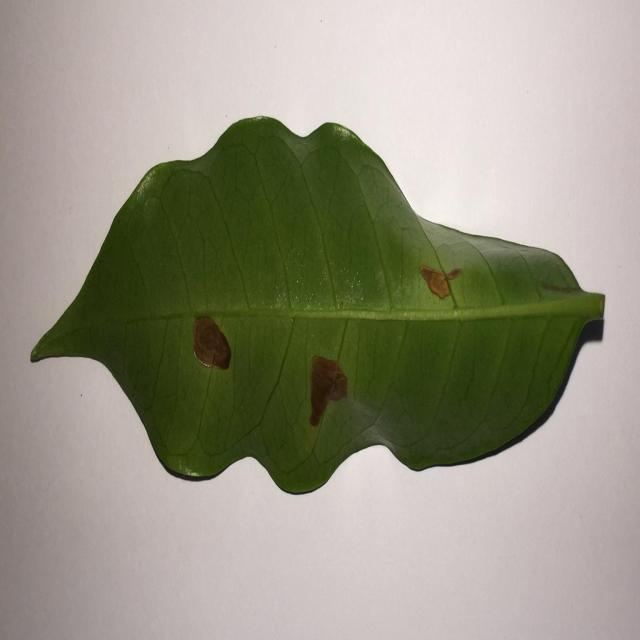Plaga-Minador: (29, 118, 605, 498)
